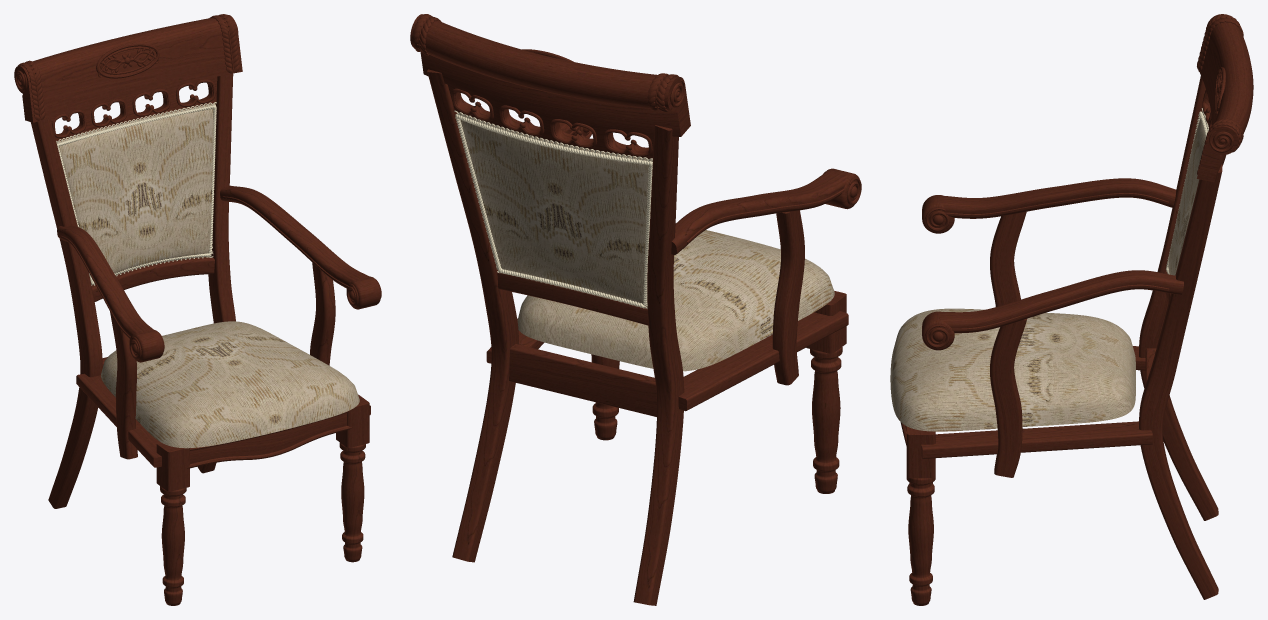
The model's file is chair.glb.
3 views of the same model, side by side, from view 1: azimuth 30°, elevation 25°; view 2: azimuth 150°, elevation 25°; view 3: azimuth 270°, elevation 25° (orthographic). The views are drawn at different scales.
Visible parts, largest first — view 1: Chair_Wood, Chair_Fabric, Chair_Trim; view 2: Chair_Wood, Chair_Fabric, Chair_Trim; view 3: Chair_Wood, Chair_Fabric.
Part boxes in pixels (<box>): Chair_Wood: <box>14,14,381,605</box>; Chair_Fabric: <box>56,103,359,448</box>; Chair_Trim: <box>56,102,216,285</box>; Chair_Wood: <box>410,14,861,605</box>; Chair_Fabric: <box>457,113,834,371</box>; Chair_Trim: <box>454,110,652,308</box>; Chair_Wood: <box>900,14,1253,605</box>; Chair_Fabric: <box>890,118,1205,431</box>.
Size of the model in its own units: 0.6486 by 1.12 by 0.7572.
Materials: 3 (2 with a texture image).
